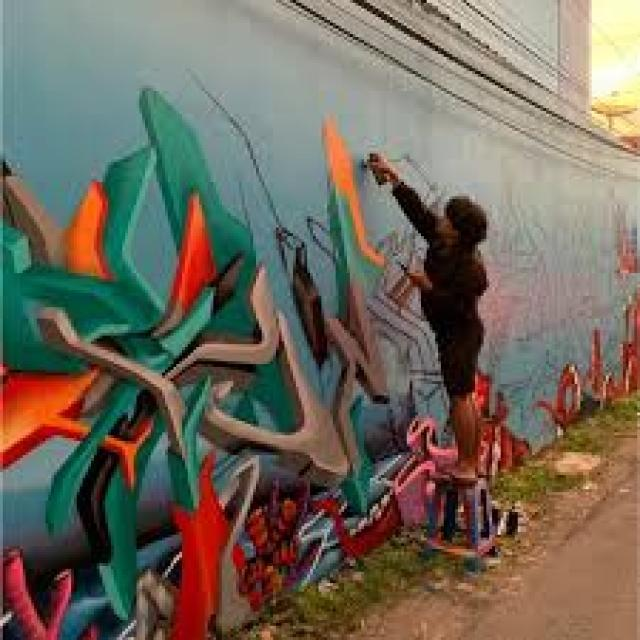-: (7, 86, 390, 638), (539, 300, 640, 430)
